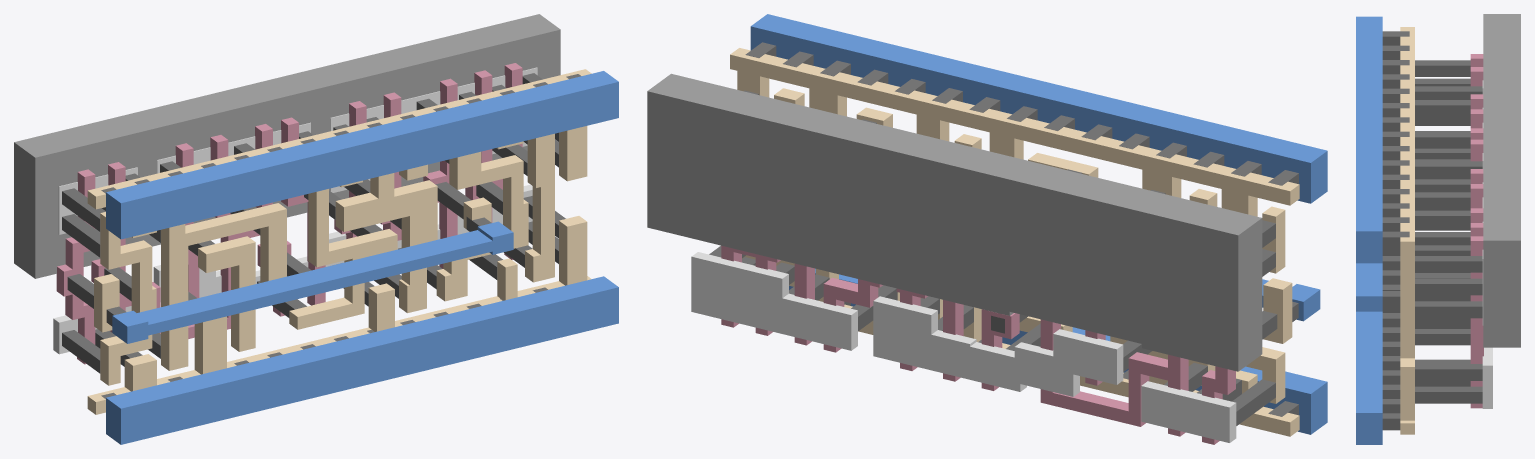
Rendered from sky130_fd_sc_hd__dlclkp_2.gds.gltf.
3 views of the same model, side by side, from view 1: azimuth 30°, elevation 25°; view 2: azimuth 150°, elevation 25°; view 3: azimuth 270°, elevation 25° (orthographic). The views are drawn at different scales.
Parts seen in each view (by area): view 1: sky130_fd_sc_hd__dlclkp_2_met1, sky130_fd_sc_hd__dlclkp_2_li1, sky130_fd_sc_hd__dlclkp_2_nwell, sky130_fd_sc_hd__dlclkp_2_licon, sky130_fd_sc_hd__dlclkp_2_poly, sky130_fd_sc_hd__dlclkp_2_diff, sky130_fd_sc_hd__dlclkp_2_mcon; view 2: sky130_fd_sc_hd__dlclkp_2_nwell, sky130_fd_sc_hd__dlclkp_2_li1, sky130_fd_sc_hd__dlclkp_2_diff, sky130_fd_sc_hd__dlclkp_2_met1, sky130_fd_sc_hd__dlclkp_2_poly, sky130_fd_sc_hd__dlclkp_2_licon, sky130_fd_sc_hd__dlclkp_2_mcon; view 3: sky130_fd_sc_hd__dlclkp_2_licon, sky130_fd_sc_hd__dlclkp_2_nwell, sky130_fd_sc_hd__dlclkp_2_met1, sky130_fd_sc_hd__dlclkp_2_mcon, sky130_fd_sc_hd__dlclkp_2_li1, sky130_fd_sc_hd__dlclkp_2_poly, sky130_fd_sc_hd__dlclkp_2_diff.
Boxes of the visible parts, left/top/right/bottom form: sky130_fd_sc_hd__dlclkp_2_met1: left=106, top=71, right=618, bottom=444; sky130_fd_sc_hd__dlclkp_2_li1: left=87, top=69, right=591, bottom=414; sky130_fd_sc_hd__dlclkp_2_nwell: left=14, top=14, right=560, bottom=278; sky130_fd_sc_hd__dlclkp_2_licon: left=62, top=73, right=565, bottom=373; sky130_fd_sc_hd__dlclkp_2_poly: left=56, top=63, right=522, bottom=364; sky130_fd_sc_hd__dlclkp_2_diff: left=53, top=67, right=537, bottom=354; sky130_fd_sc_hd__dlclkp_2_mcon: left=101, top=74, right=581, bottom=398; sky130_fd_sc_hd__dlclkp_2_nwell: left=647, top=73, right=1262, bottom=371; sky130_fd_sc_hd__dlclkp_2_li1: left=730, top=48, right=1299, bottom=436; sky130_fd_sc_hd__dlclkp_2_diff: left=691, top=252, right=1236, bottom=442; sky130_fd_sc_hd__dlclkp_2_met1: left=750, top=14, right=1327, bottom=434; sky130_fd_sc_hd__dlclkp_2_poly: left=721, top=245, right=1235, bottom=444; sky130_fd_sc_hd__dlclkp_2_licon: left=709, top=90, right=1277, bottom=425; sky130_fd_sc_hd__dlclkp_2_mcon: left=745, top=42, right=1298, bottom=416; sky130_fd_sc_hd__dlclkp_2_licon: left=1415, top=60, right=1482, bottom=403; sky130_fd_sc_hd__dlclkp_2_nwell: left=1483, top=14, right=1520, bottom=347; sky130_fd_sc_hd__dlclkp_2_met1: left=1356, top=16, right=1382, bottom=444; sky130_fd_sc_hd__dlclkp_2_mcon: left=1382, top=31, right=1409, bottom=430; sky130_fd_sc_hd__dlclkp_2_li1: left=1400, top=27, right=1414, bottom=434; sky130_fd_sc_hd__dlclkp_2_poly: left=1470, top=54, right=1483, bottom=408; sky130_fd_sc_hd__dlclkp_2_diff: left=1482, top=80, right=1492, bottom=408.
Size of the model in its own units: 7.28 by 3.2 by 2.24.
